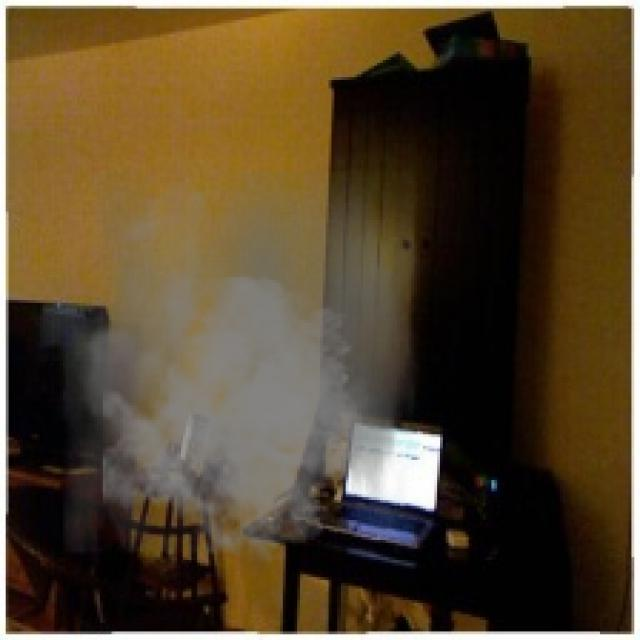Smoke: (63, 171, 420, 566)
